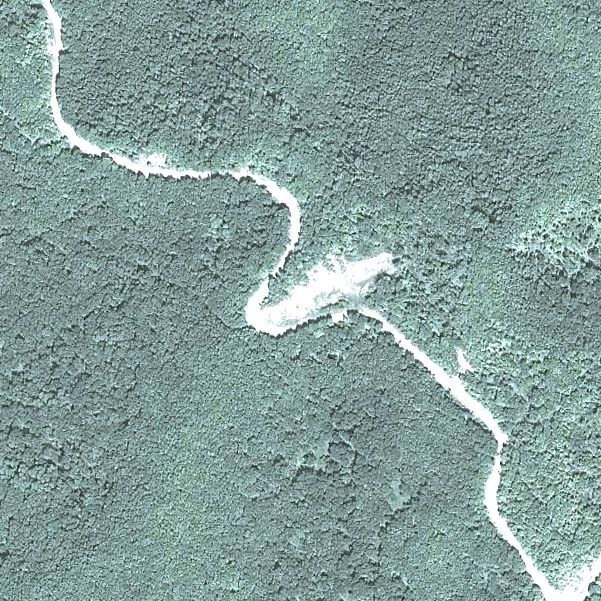slope: (240, 244, 400, 338)
